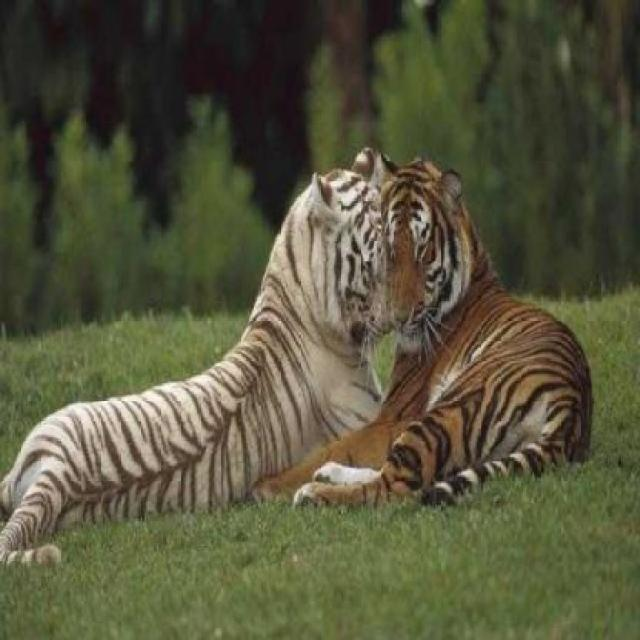Tiger: (0, 136, 392, 570), (356, 130, 599, 516)
